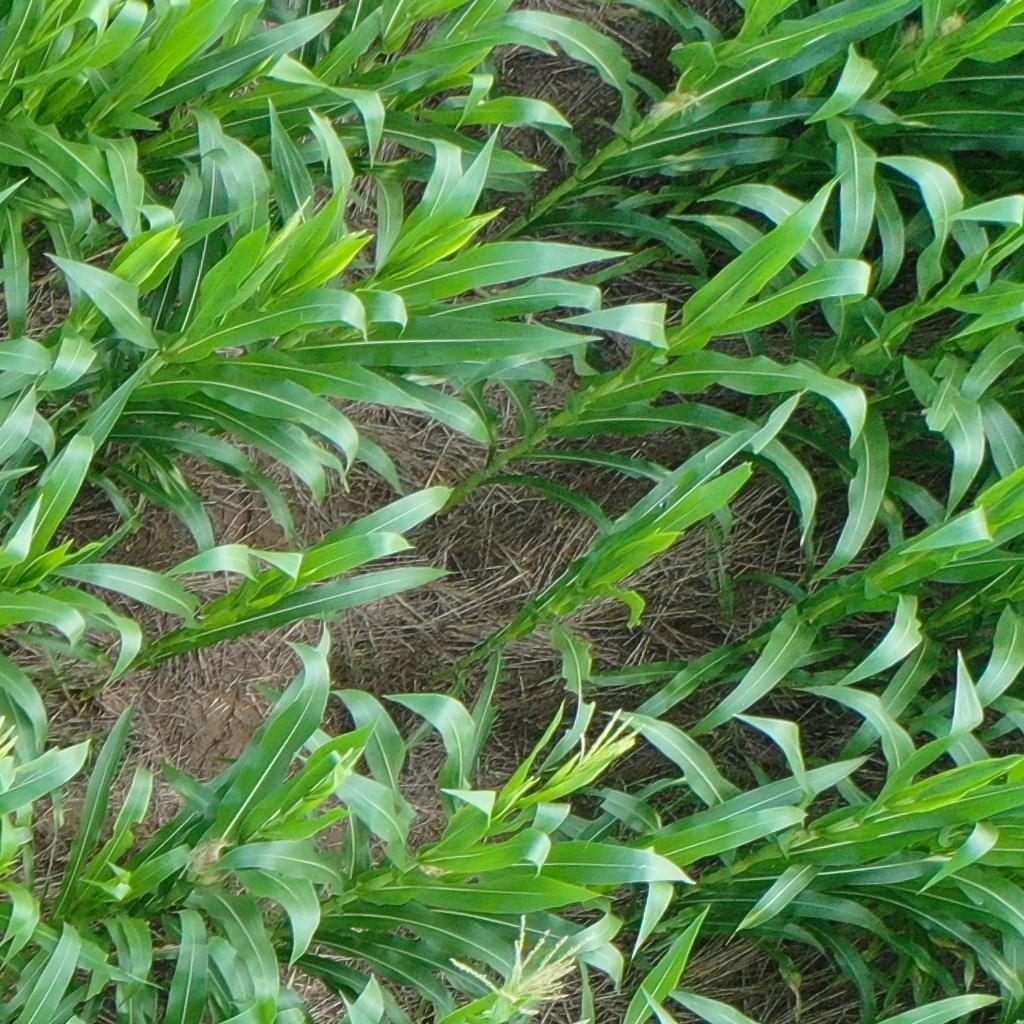Tassel: (447, 909, 580, 1015), (575, 706, 646, 764), (263, 193, 315, 246), (1, 711, 21, 759), (335, 224, 369, 240)
